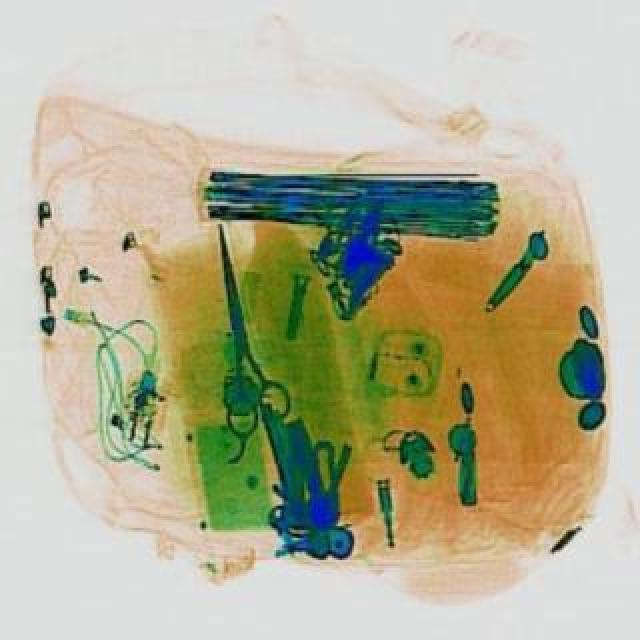pliers: (192, 214, 300, 436)
